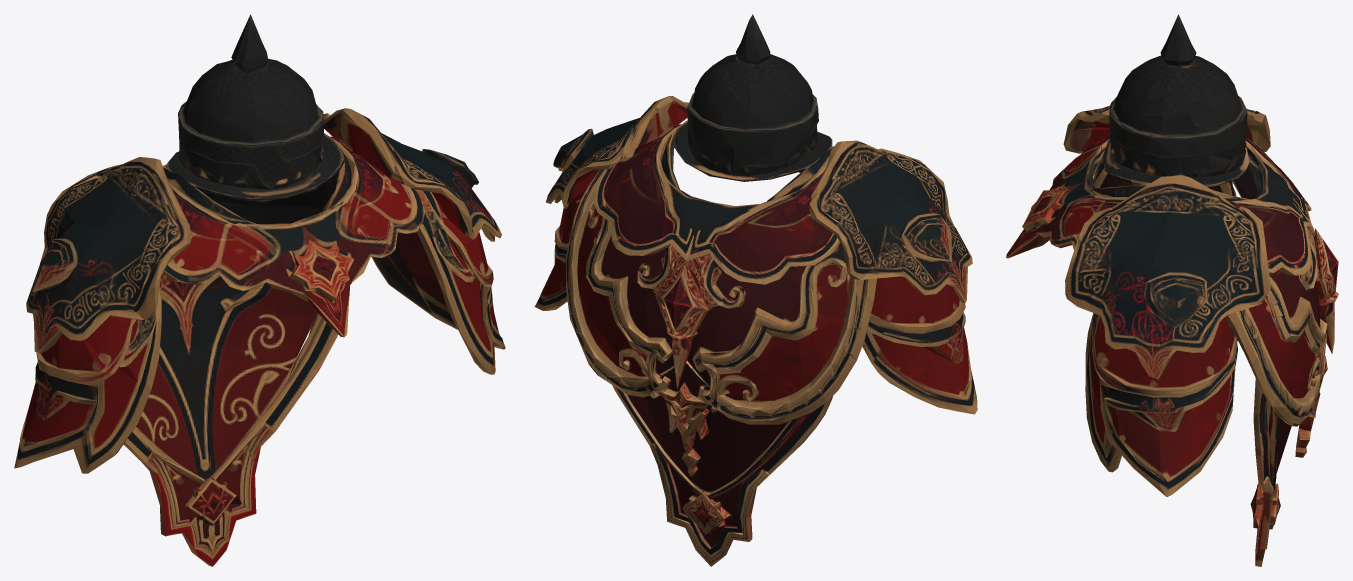
The model's file is part-pauldron.glb.
3 renders of one model, left to right at view 1: azimuth 30°, elevation 25°; view 2: azimuth 150°, elevation 25°; view 3: azimuth 270°, elevation 25°, orthographic. The views are drawn at different scales.
Bounding box in the file's own units: 1.67 × 1.9 × 1.04.
1 material, 1 textured.
